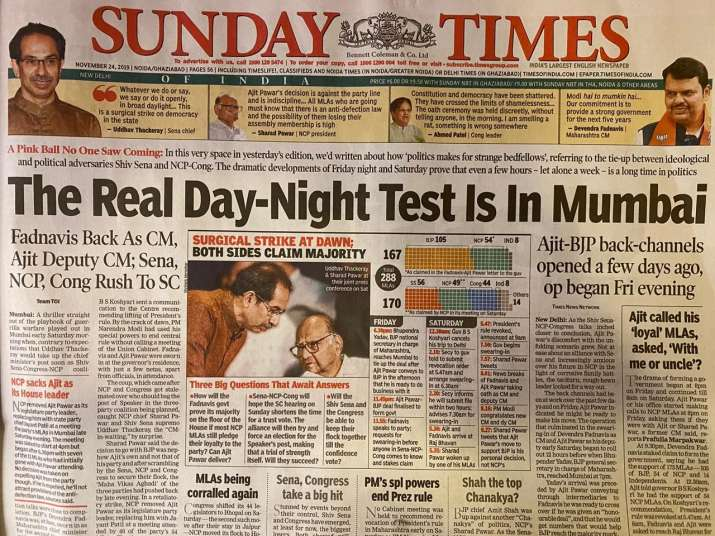news_paper: (1, 1, 710, 536)
